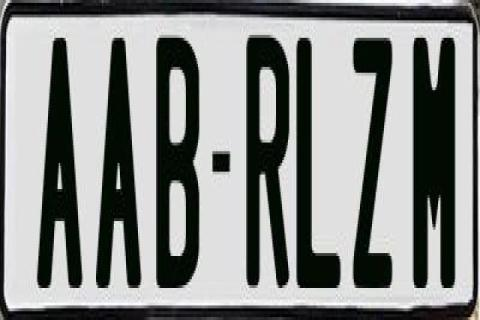A: (94, 35, 140, 303), (34, 32, 80, 291)
B: (154, 32, 204, 300)
L: (292, 29, 340, 294)
M: (412, 32, 460, 282)
R: (246, 32, 289, 302)
Z: (350, 35, 391, 299)
